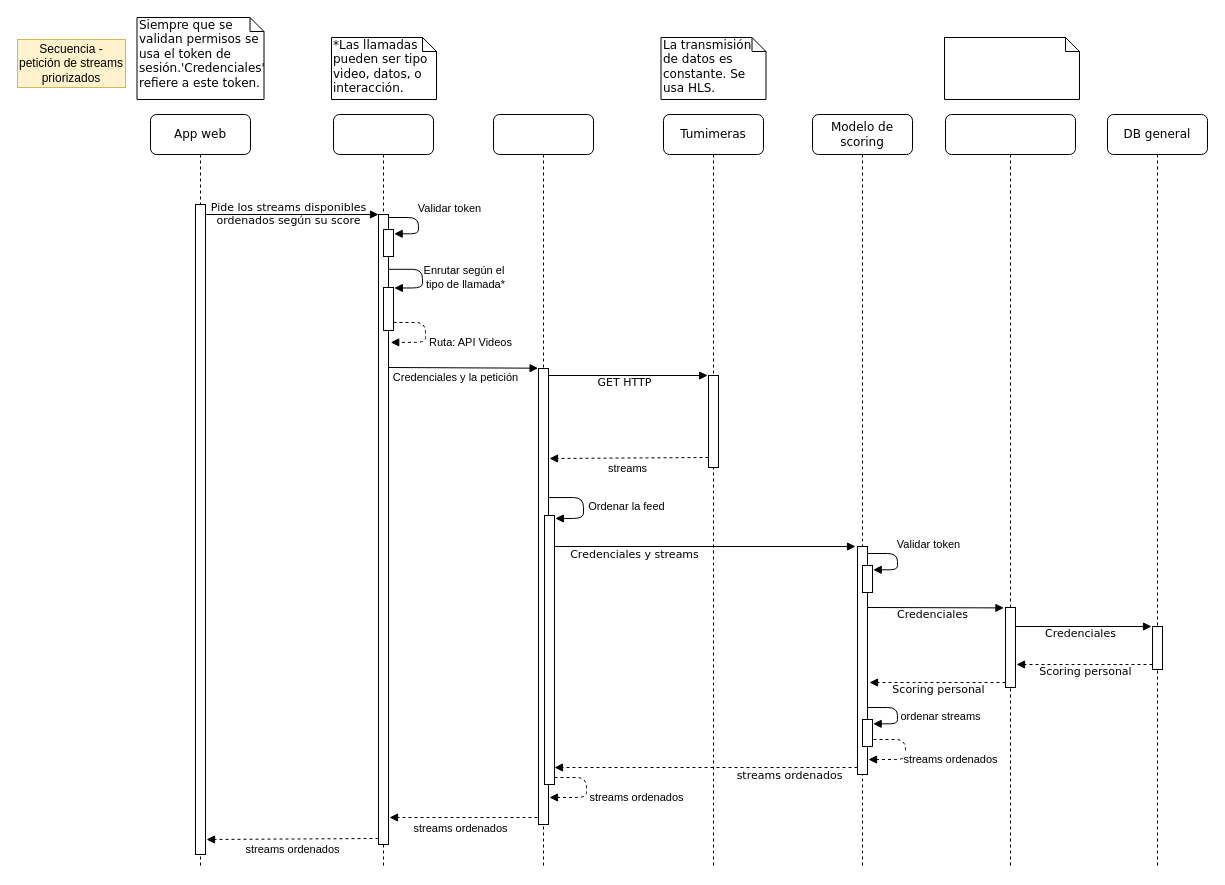
The diagram is 1225 pixels wide and 885 high, and some of its shapes have lost their labels. The box of each missing label's shape, as (x1, y1, x2, y2) in pixels:
API Videos: (492, 114, 594, 868)
Cada usuario agente tiene su scoring personal almacenado en la DB.: (944, 36, 1080, 100)
Gateway: (332, 114, 434, 868)
Persistencia datos e información general: (944, 114, 1076, 868)
